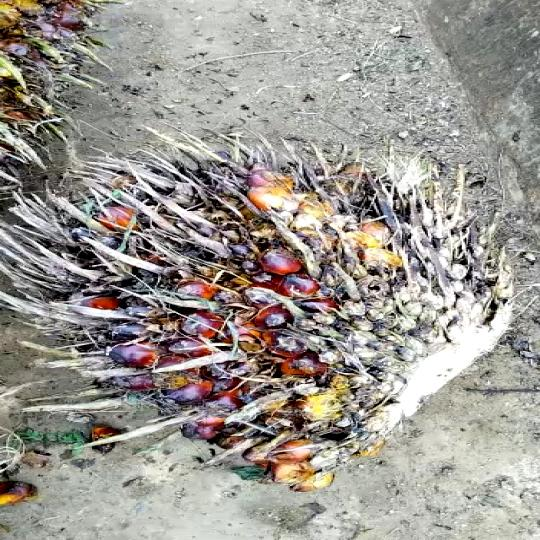terlalu masak: (0, 147, 540, 465)
